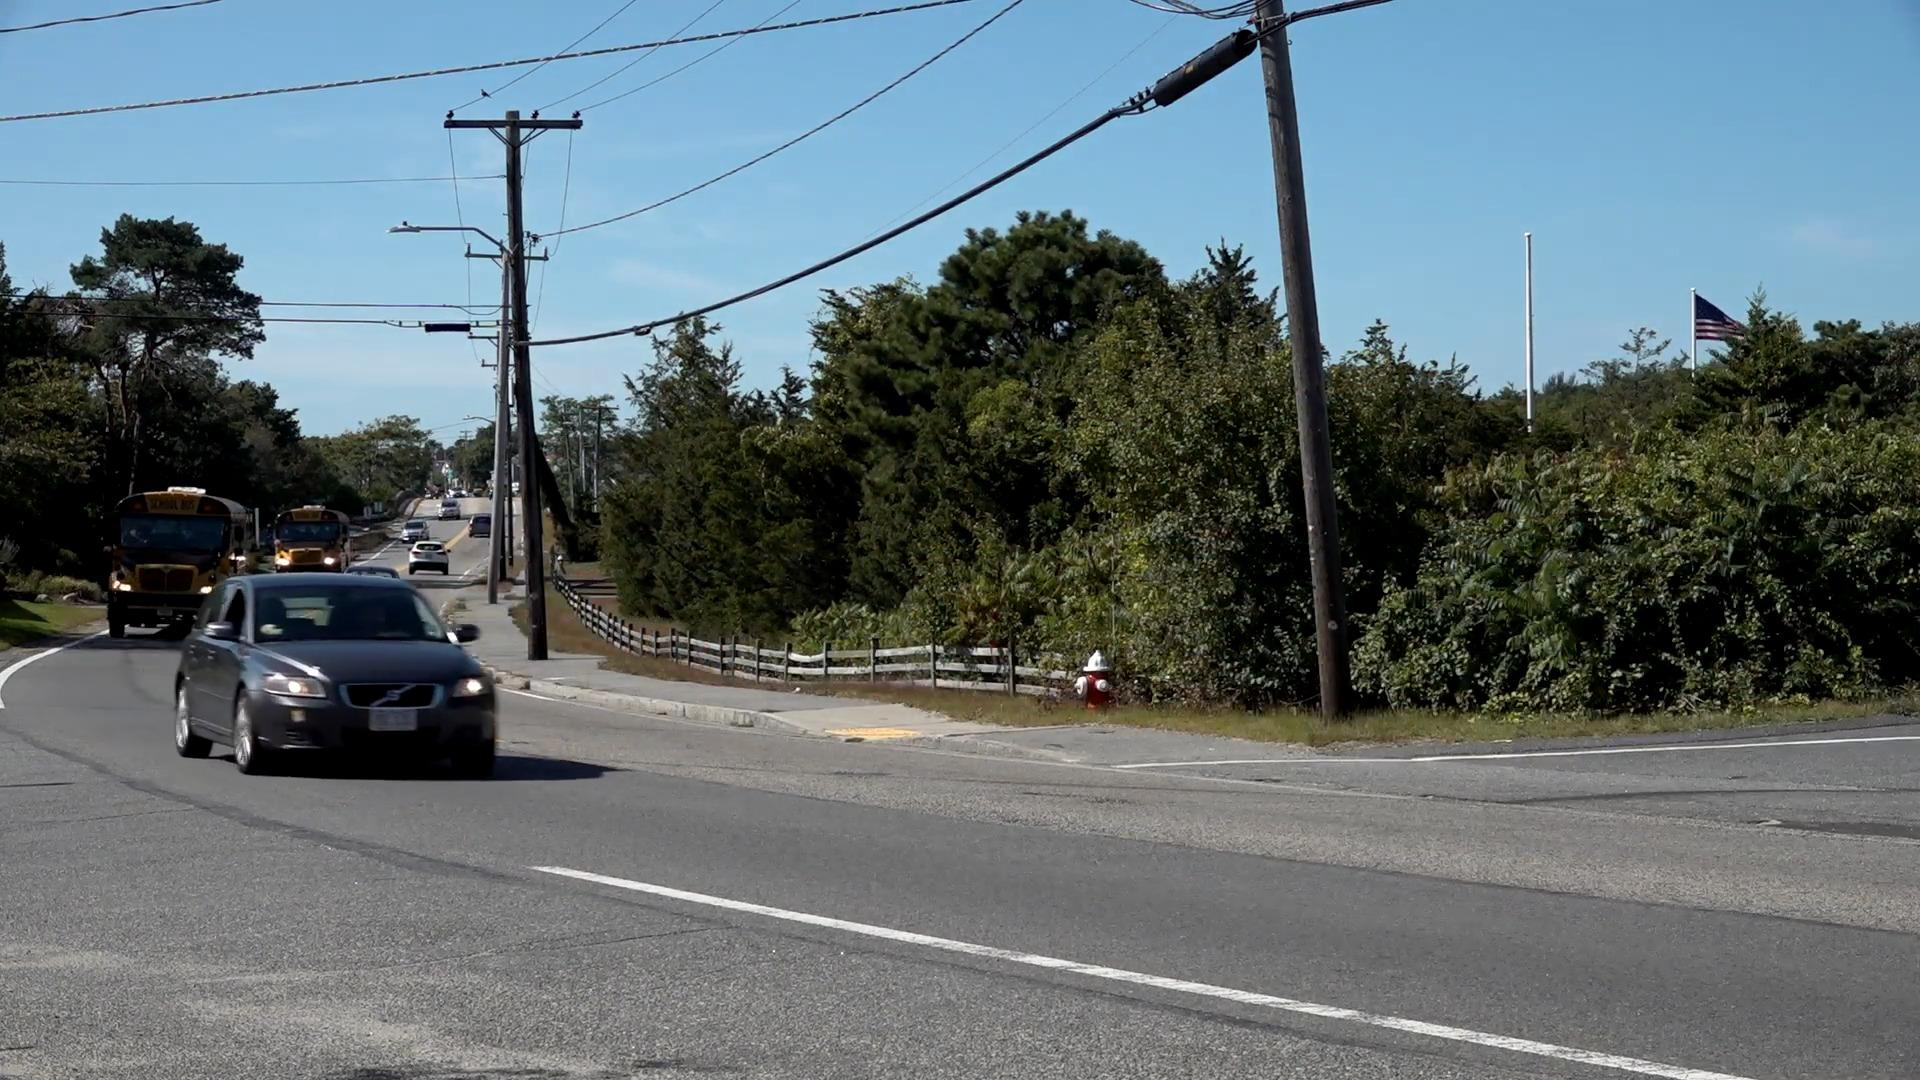sedans: (186, 577, 500, 777)
truck: (110, 489, 223, 644), (274, 507, 341, 570)
